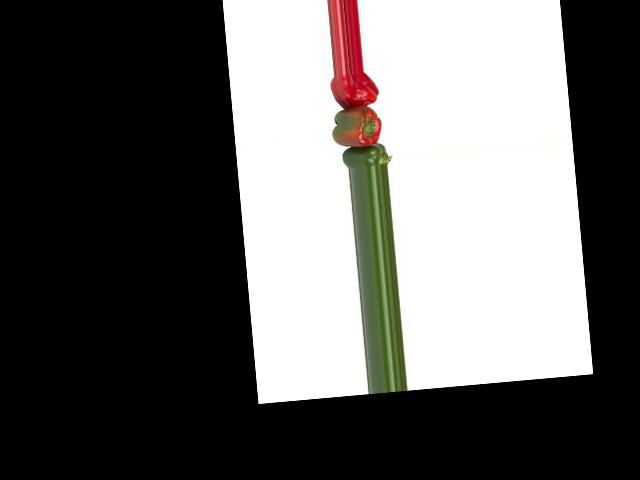bell_pepper: (327, 70, 384, 110)
